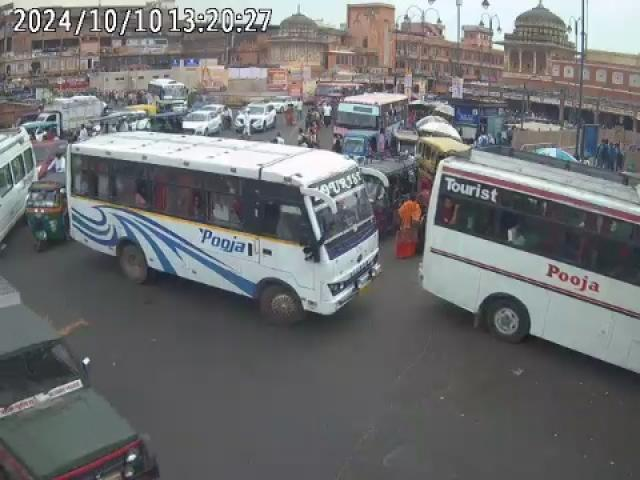auto: (23, 176, 69, 248)
bus: (69, 128, 386, 324), (418, 144, 640, 378), (1, 126, 38, 272), (334, 88, 410, 152), (146, 76, 191, 110)
car: (0, 292, 157, 480), (232, 100, 280, 134), (180, 107, 224, 136)
